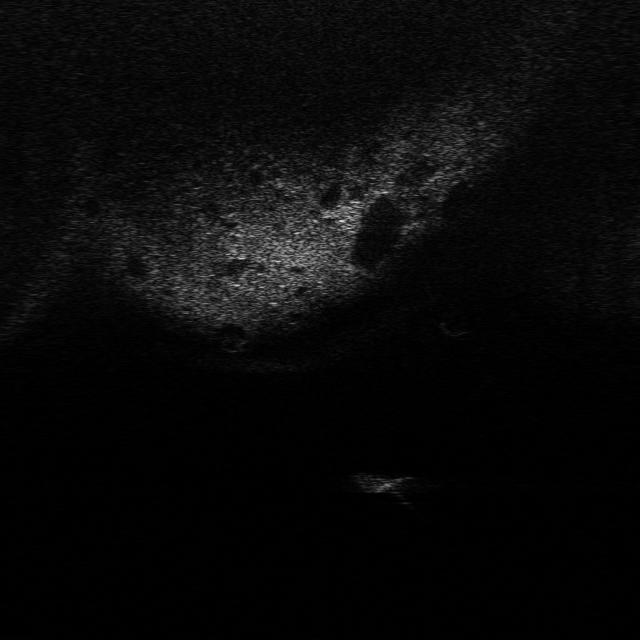ball: (438, 310, 477, 338)
cube: (350, 471, 420, 498)
